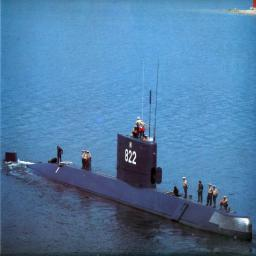submarine: (4, 122, 254, 242)
